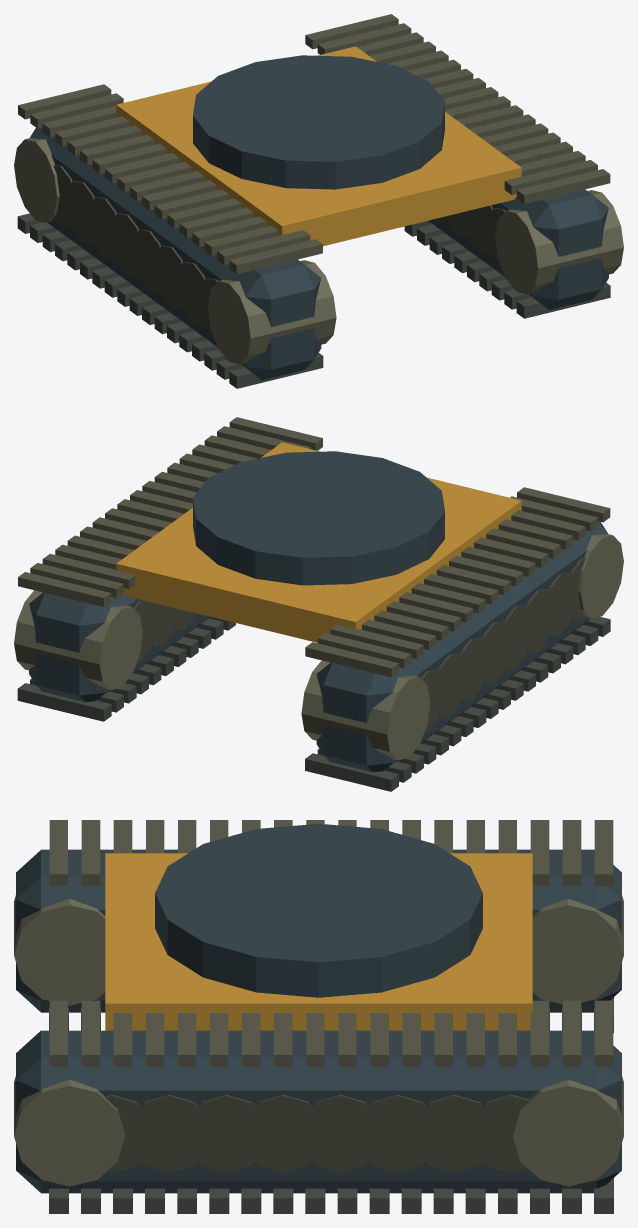
File: exc-base.glb
The picture shows the model from 3 angles, top to bottom: view 1: azimuth 30°, elevation 25°; view 2: azimuth 150°, elevation 25°; view 3: azimuth 270°, elevation 25°; orthographic projection. The views are drawn at different scales.
Bounding box in the file's own units: 7.8 × 3.15 × 8.56.
